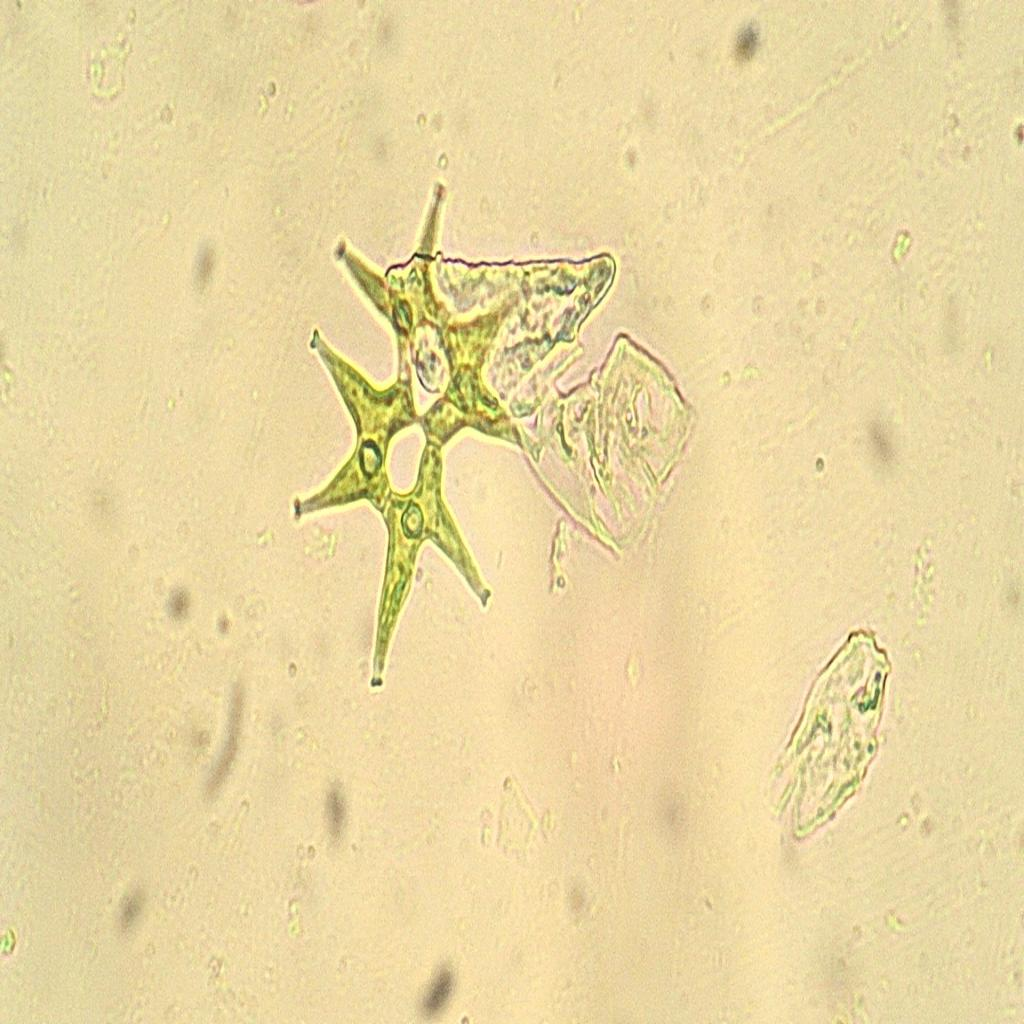Pediastrum_CF: (285, 163, 549, 712)
